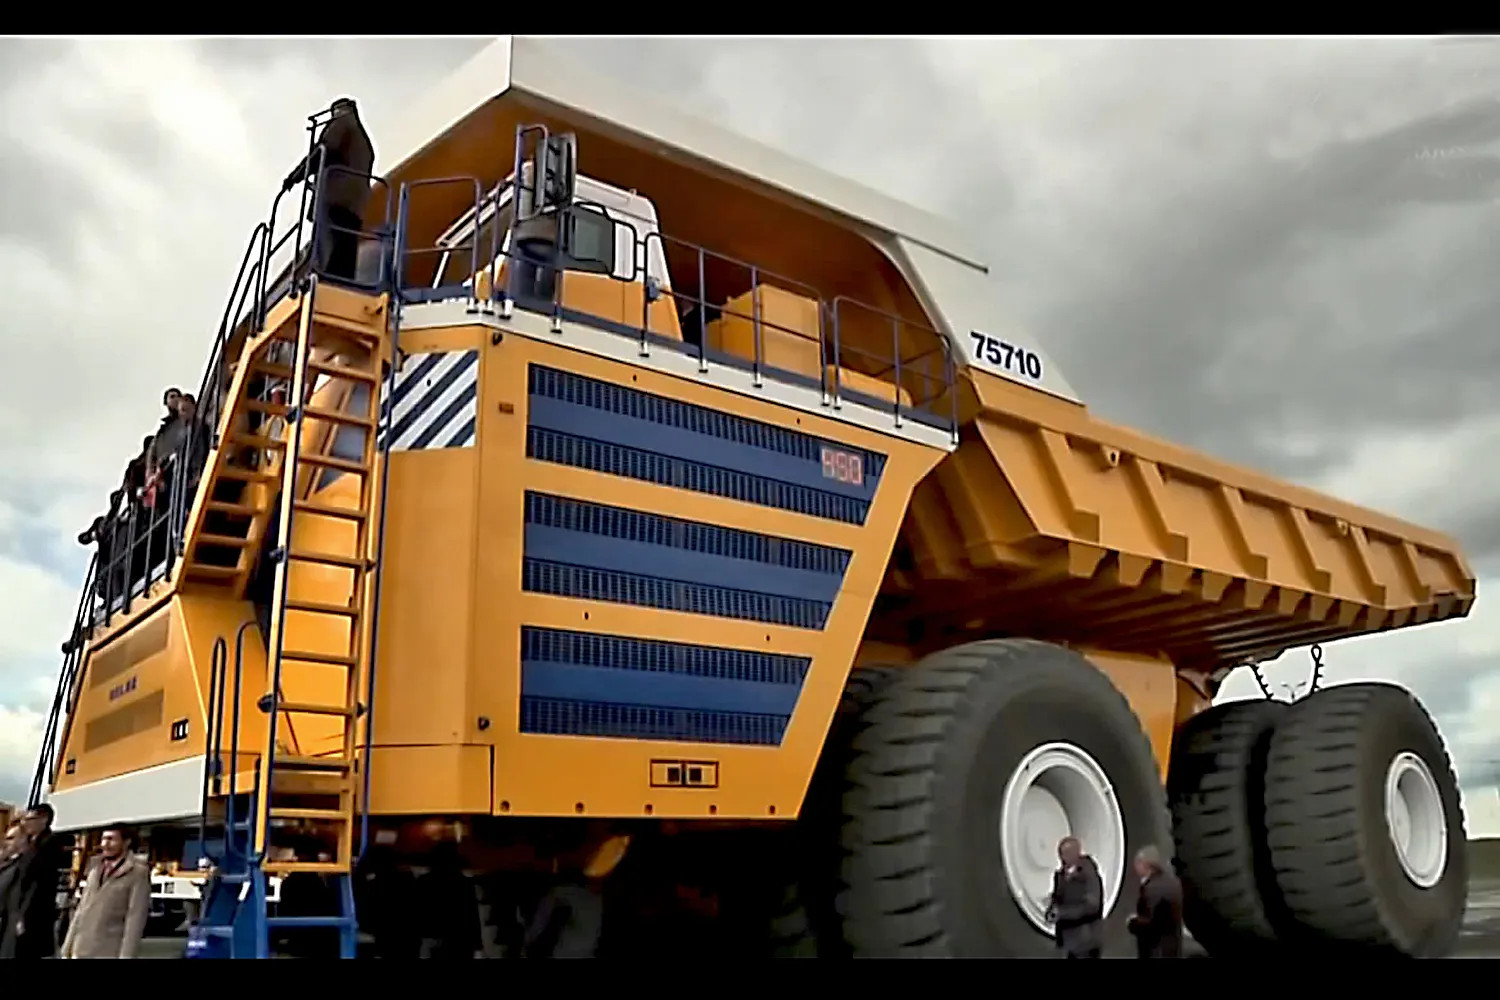truck: (23, 35, 1481, 977)
